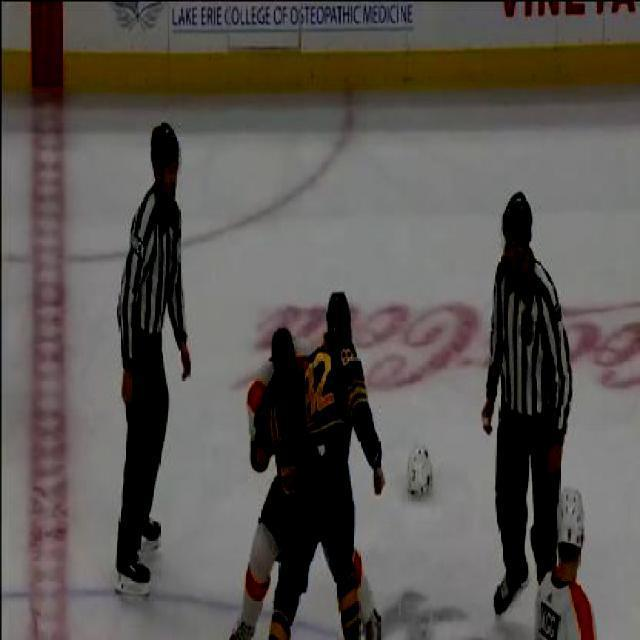fight: (246, 286, 386, 639)
